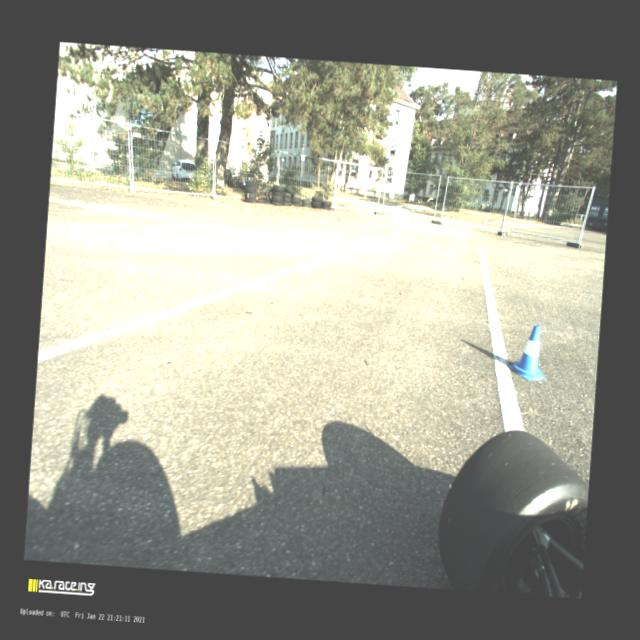blue_cone: (508, 322, 550, 382)
